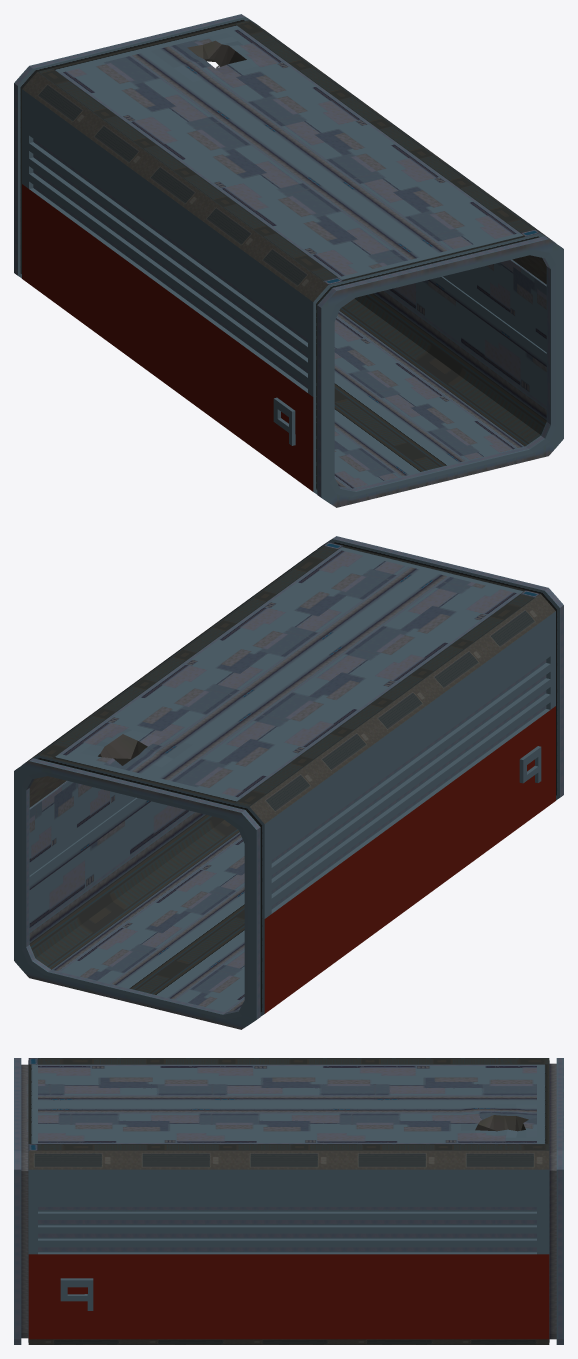
File: mdlCargoHoldExplodedLower.fbx
The picture shows the model from 3 angles, top to bottom: view 1: azimuth 30°, elevation 25°; view 2: azimuth 150°, elevation 25°; view 3: azimuth 270°, elevation 25°; orthographic projection. The views are drawn at different scales.
Parts seen in each view (by area): view 1: CargoHold.003; view 2: CargoHold.003; view 3: CargoHold.003.
Boxes of the visible parts, x1,y1,x2,y2 form: CargoHold.003: (14,14,563,507); CargoHold.003: (14,536,563,1029); CargoHold.003: (14,1058,563,1344).
Bounding box in the file's own units: 66.98 × 56.14 × 143.
